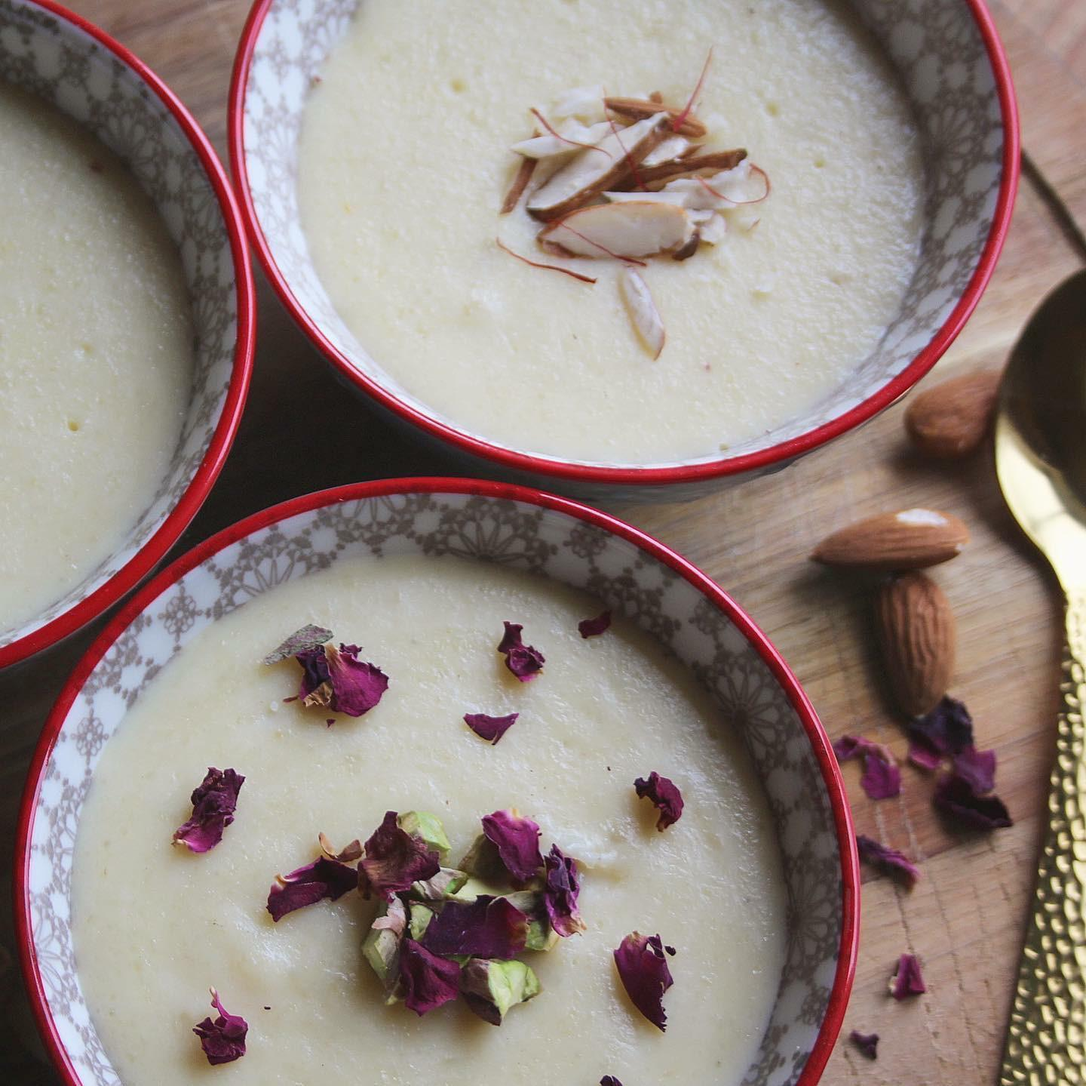Kheer: (74, 556, 800, 1082), (296, 0, 922, 465), (5, 81, 195, 653)
